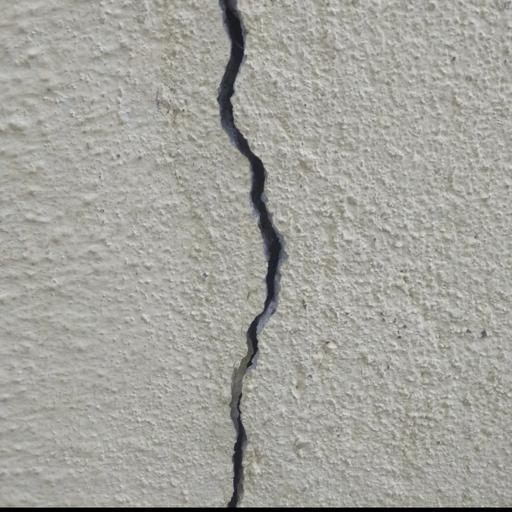major_crack: (204, 0, 284, 512)
